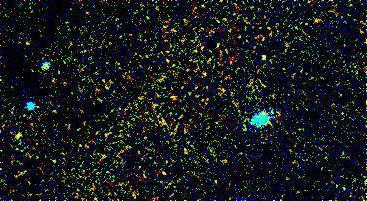star: (1, 118, 31, 148)
